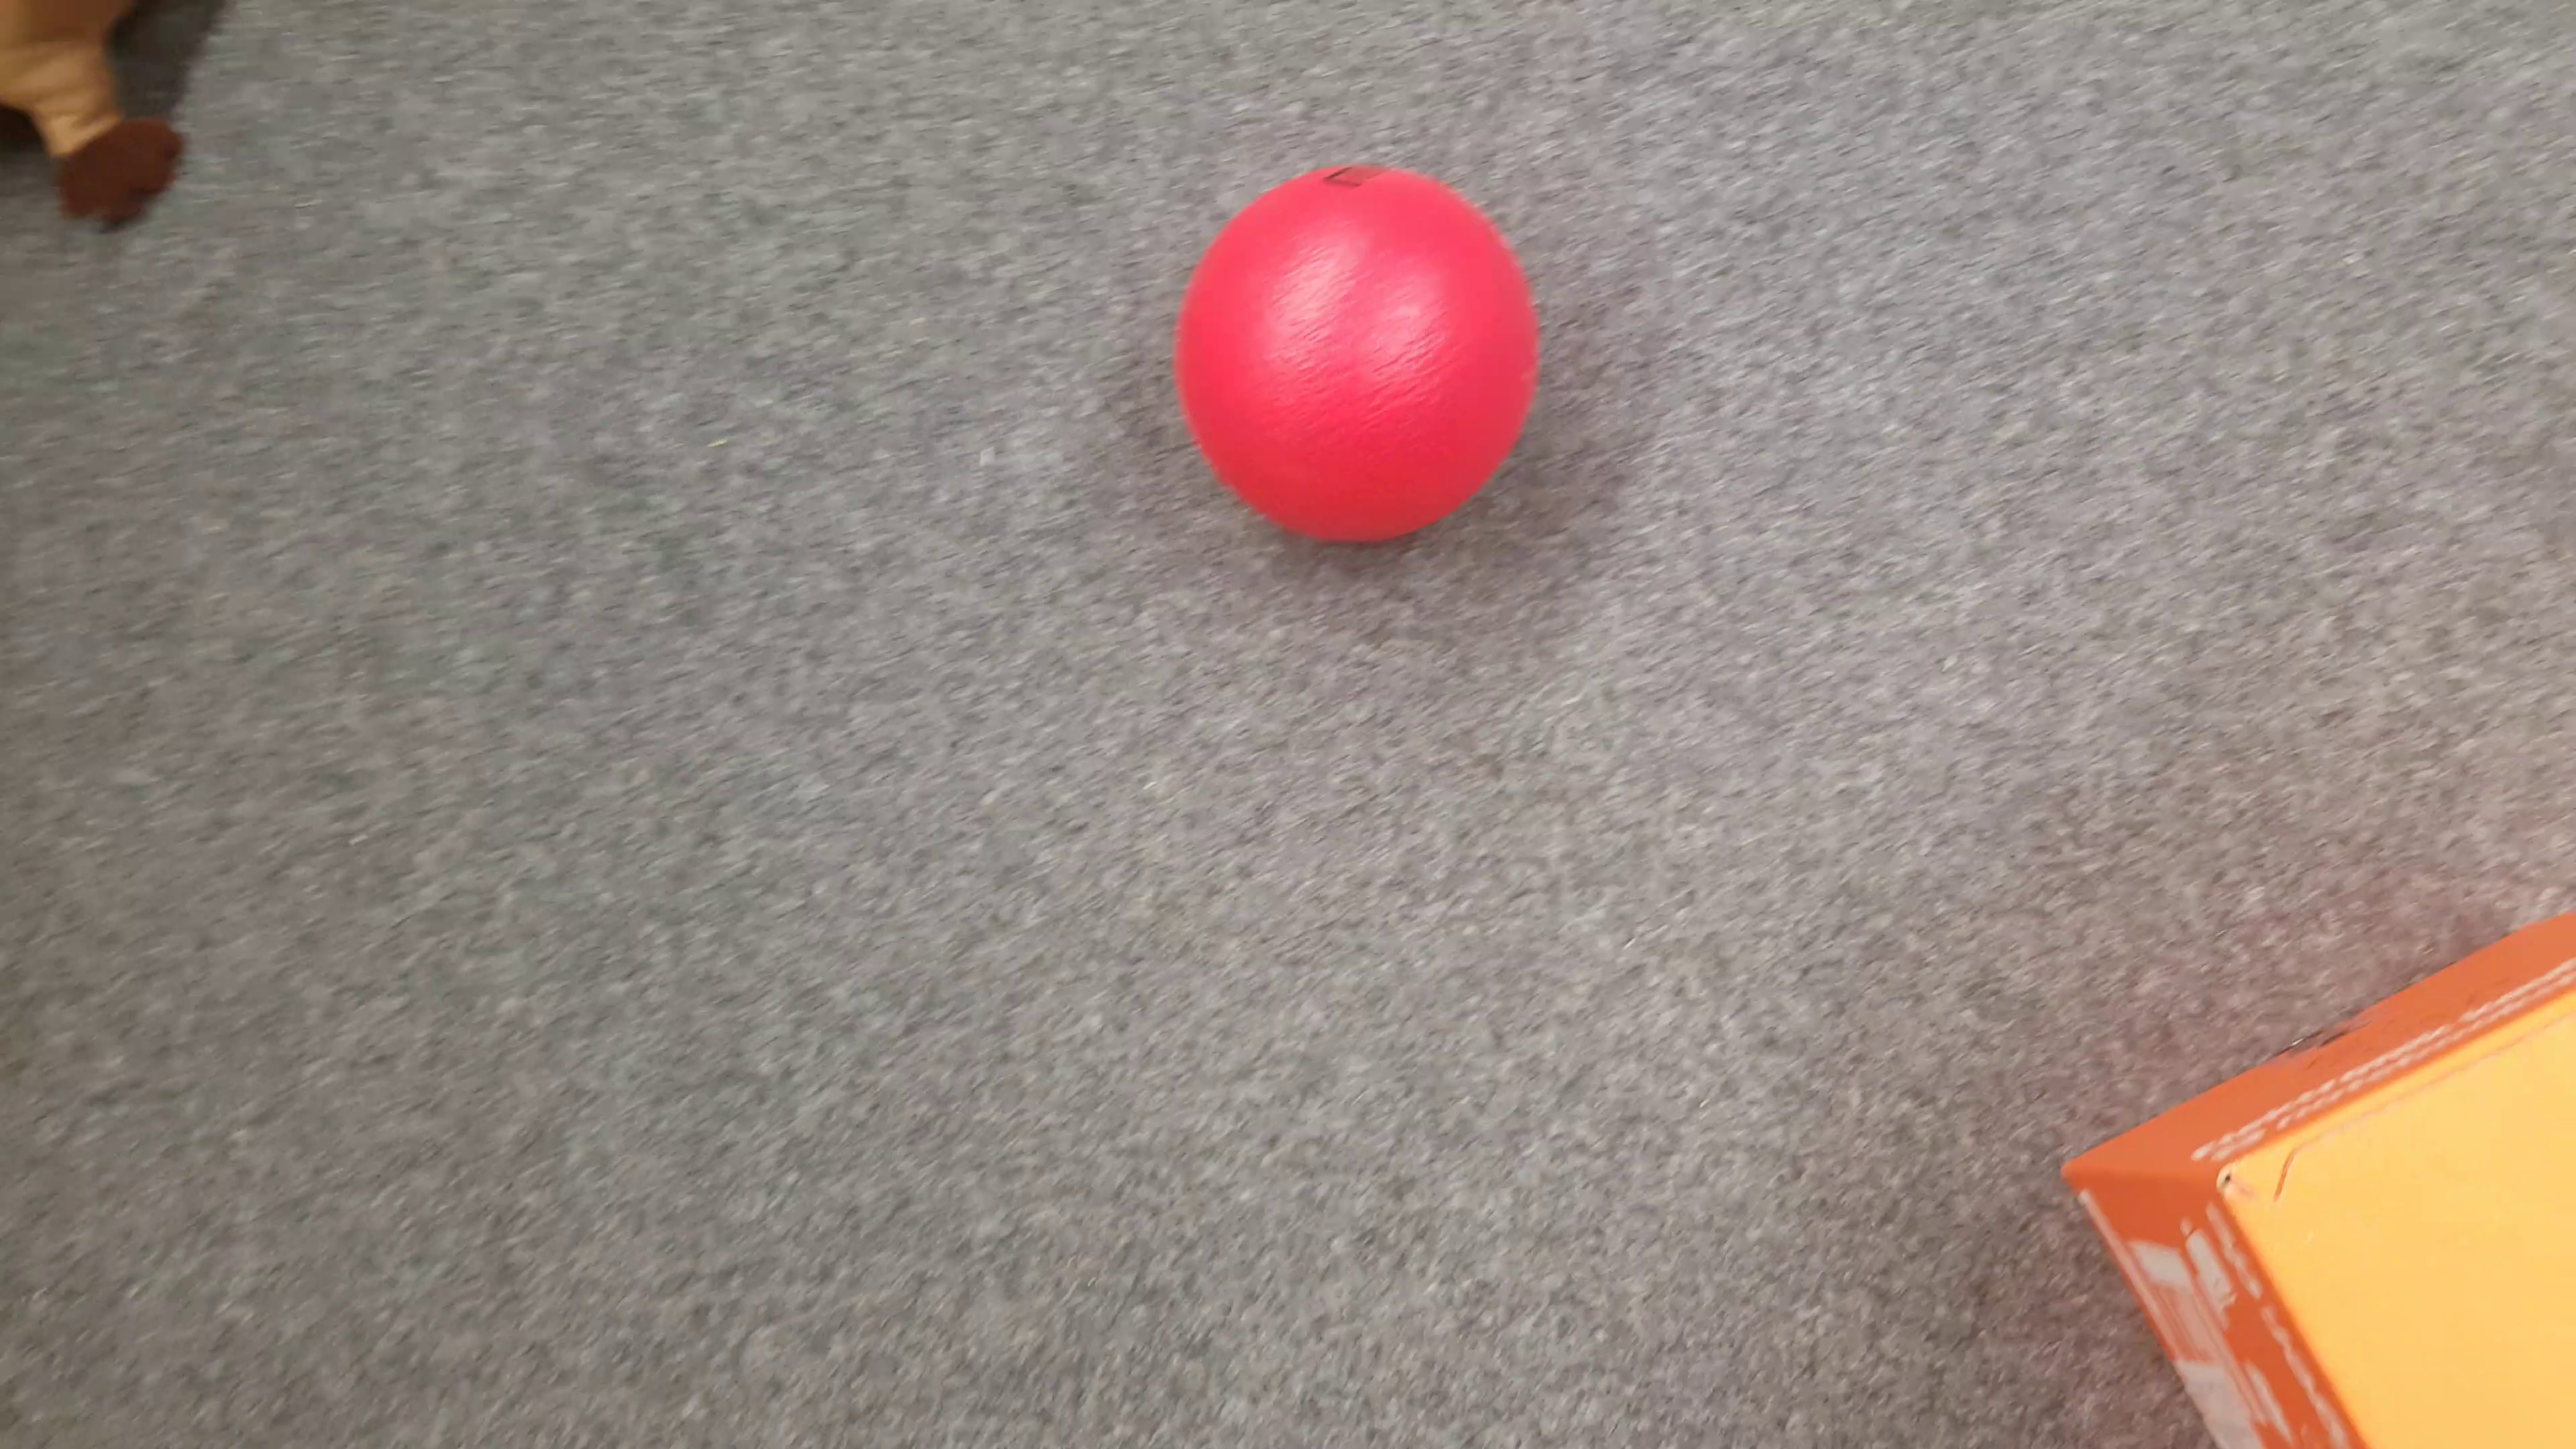grasp: (0, 14, 193, 226)
kick: (1177, 170, 1543, 538)
push: (2084, 920, 2567, 1449)
